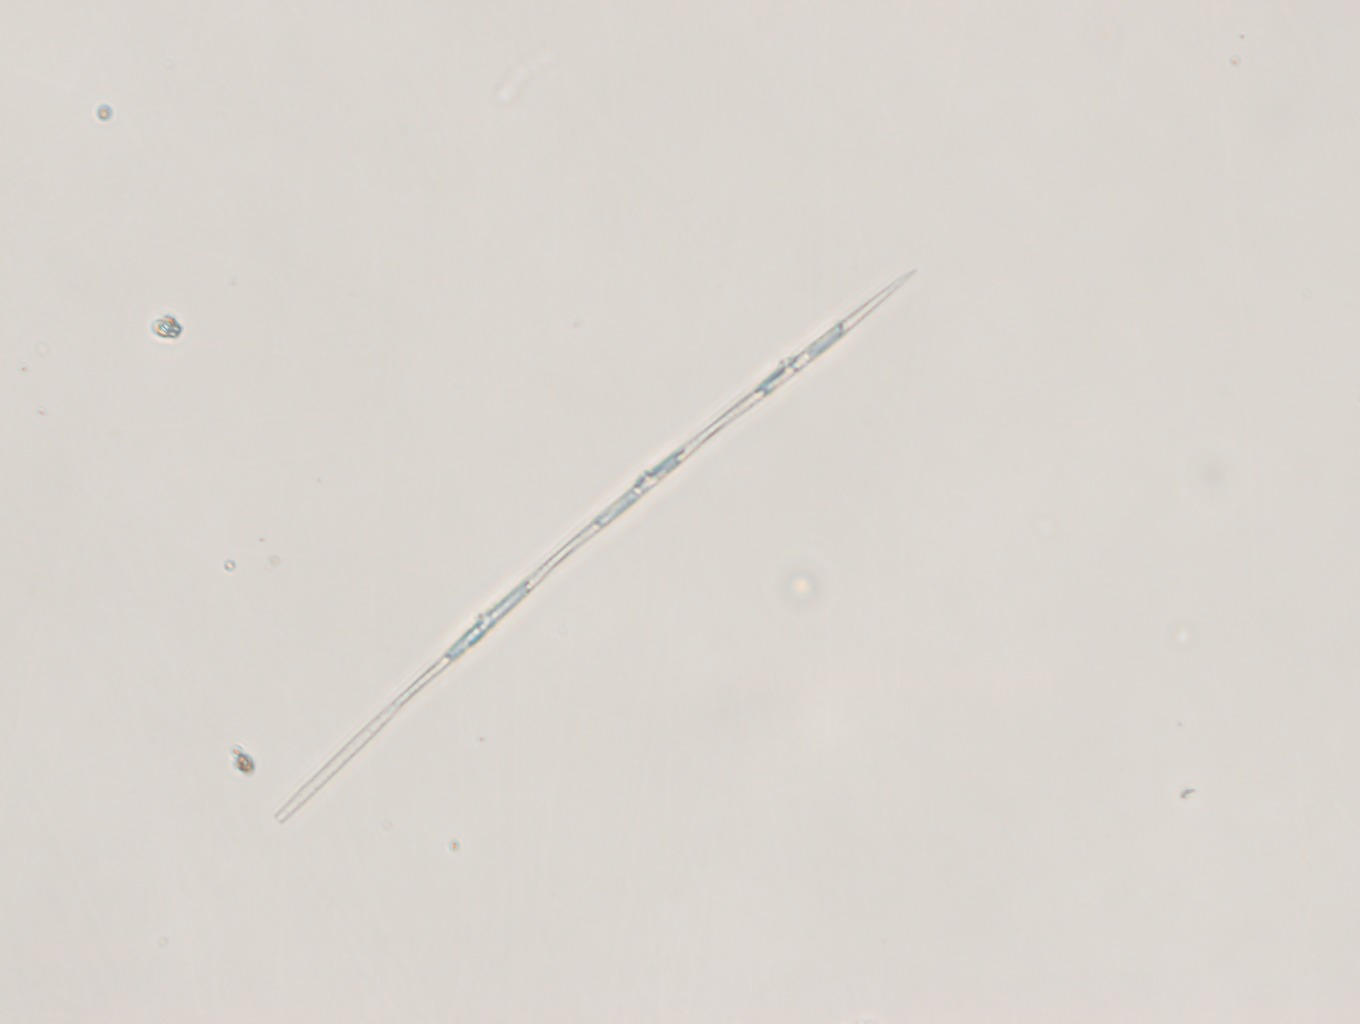ceratium fusus: (271, 269, 921, 839)
